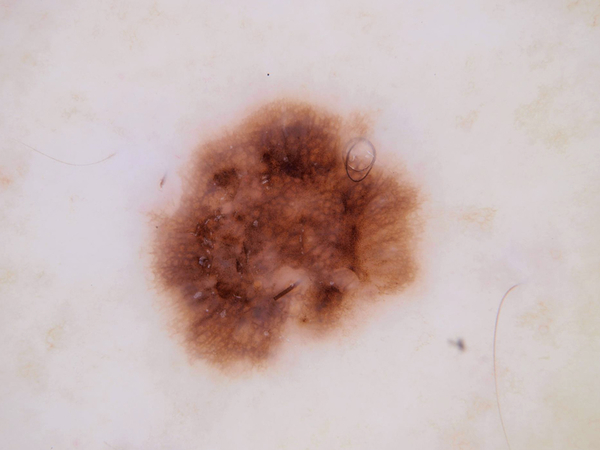Detected Lesion: (140, 93, 426, 382)
